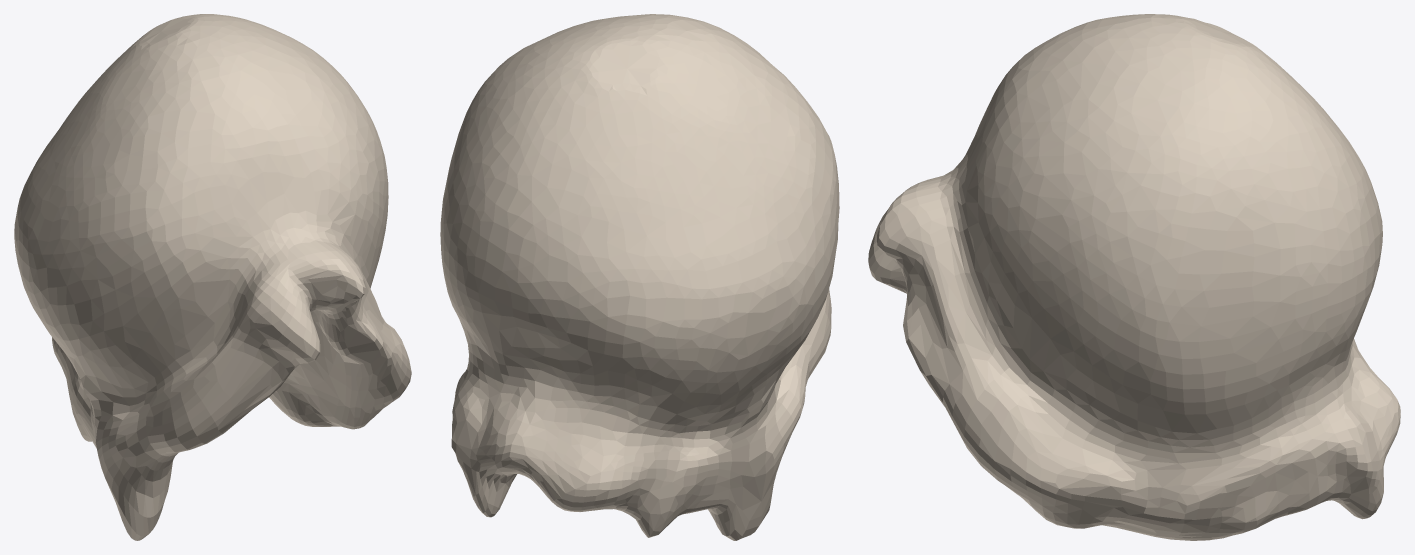
The model's file is Ice.fbx.
3 views of the same model, side by side, from view 1: azimuth 30°, elevation 25°; view 2: azimuth 150°, elevation 25°; view 3: azimuth 270°, elevation 25° (orthographic). The views are drawn at different scales.
Visible parts, largest first — view 1: Sphere; view 2: Sphere; view 3: Sphere.
Part boxes in pixels (<box>): Sphere: <box>14,14,411,540</box>; Sphere: <box>440,14,839,540</box>; Sphere: <box>868,14,1400,540</box>.
Size of the model in its own units: 125 by 173 by 155.
